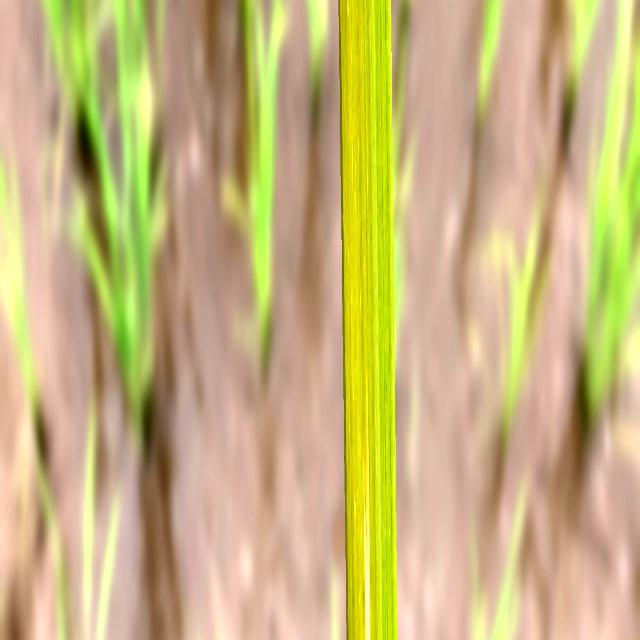BLS: (363, 409, 370, 640)
